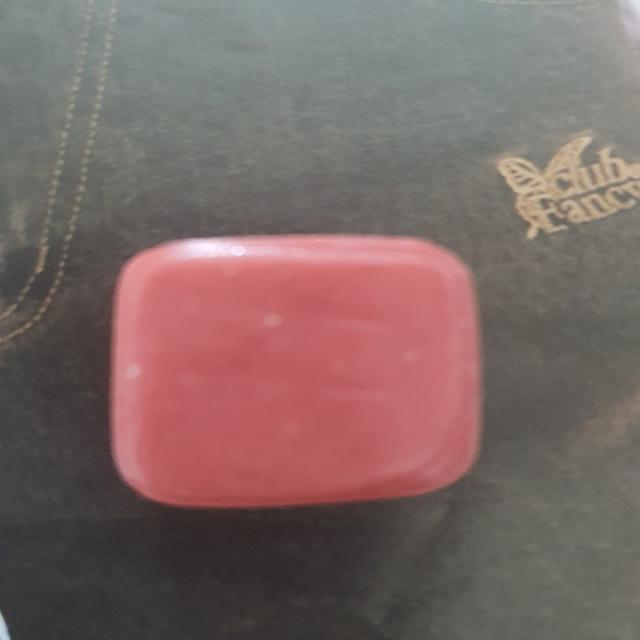pill: (74, 182, 482, 530)
